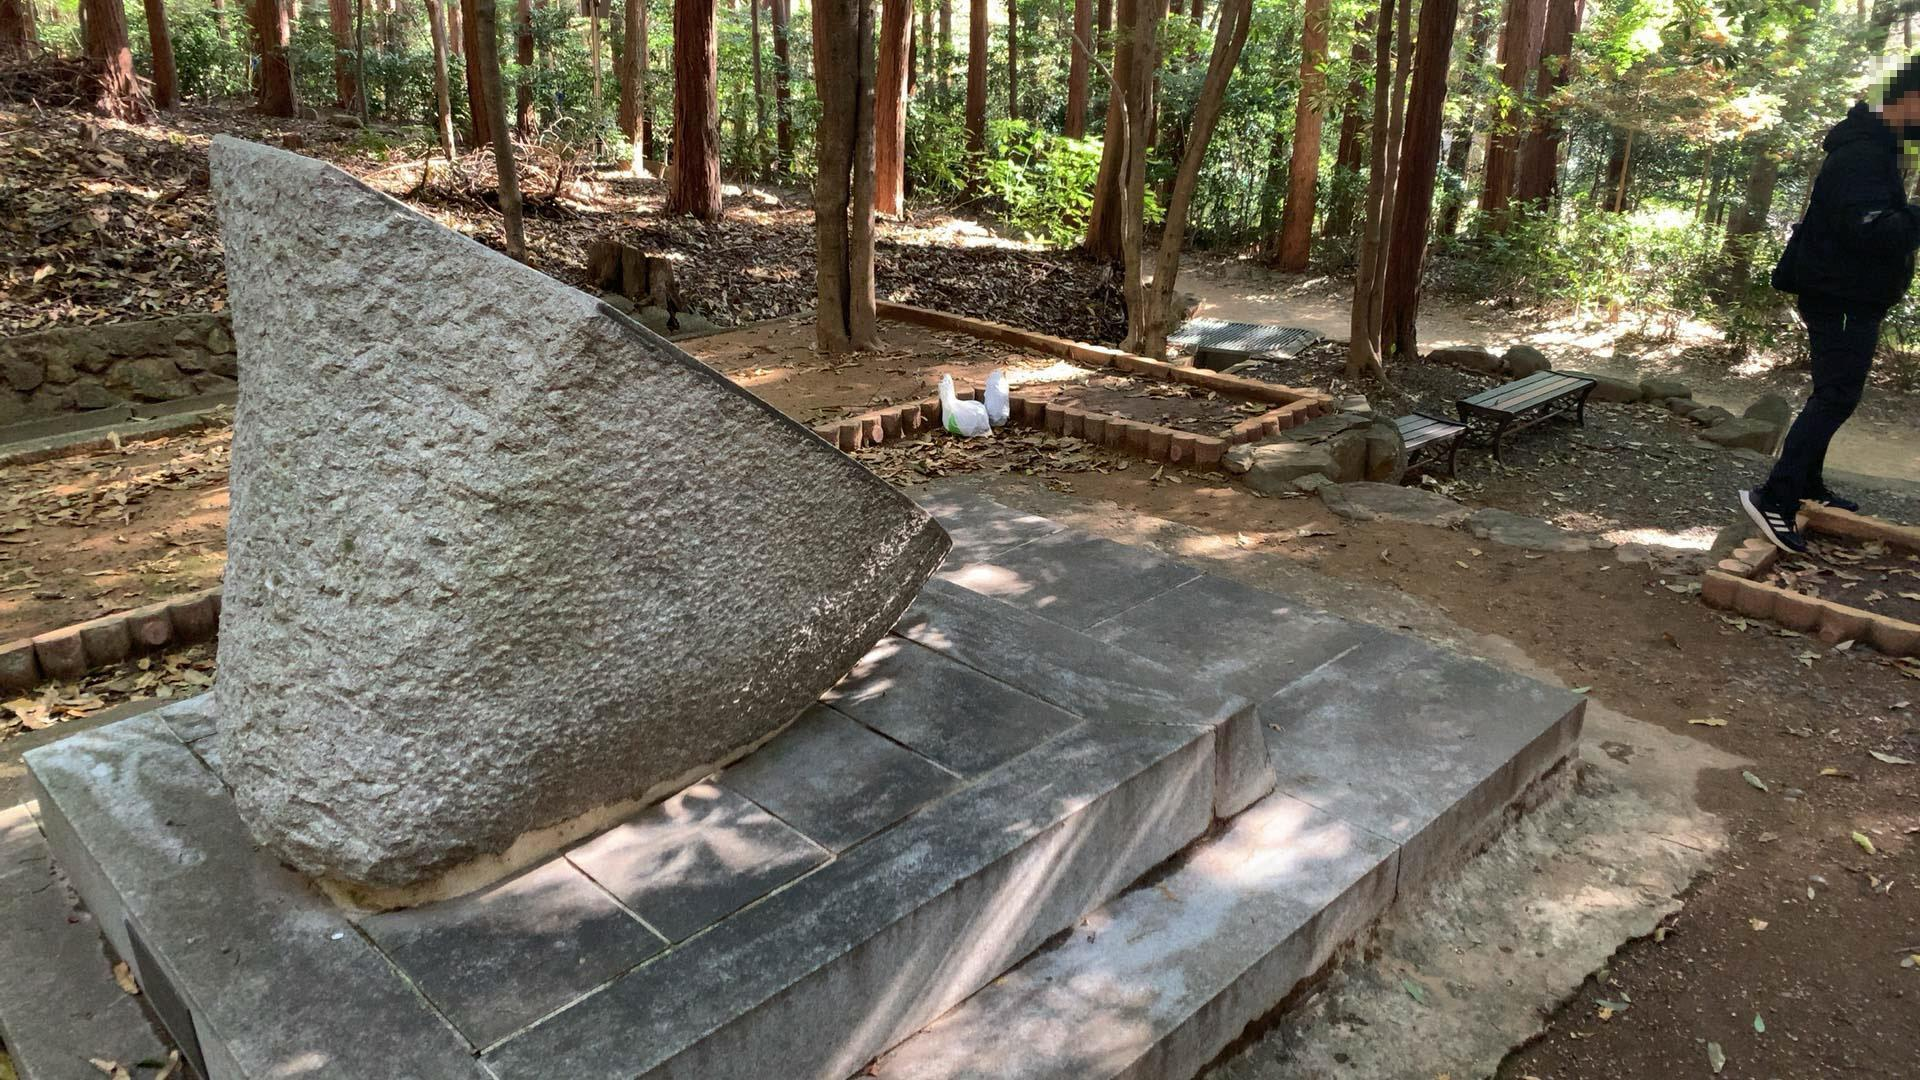white_bag: (930, 371, 997, 440), (982, 365, 1014, 426)
